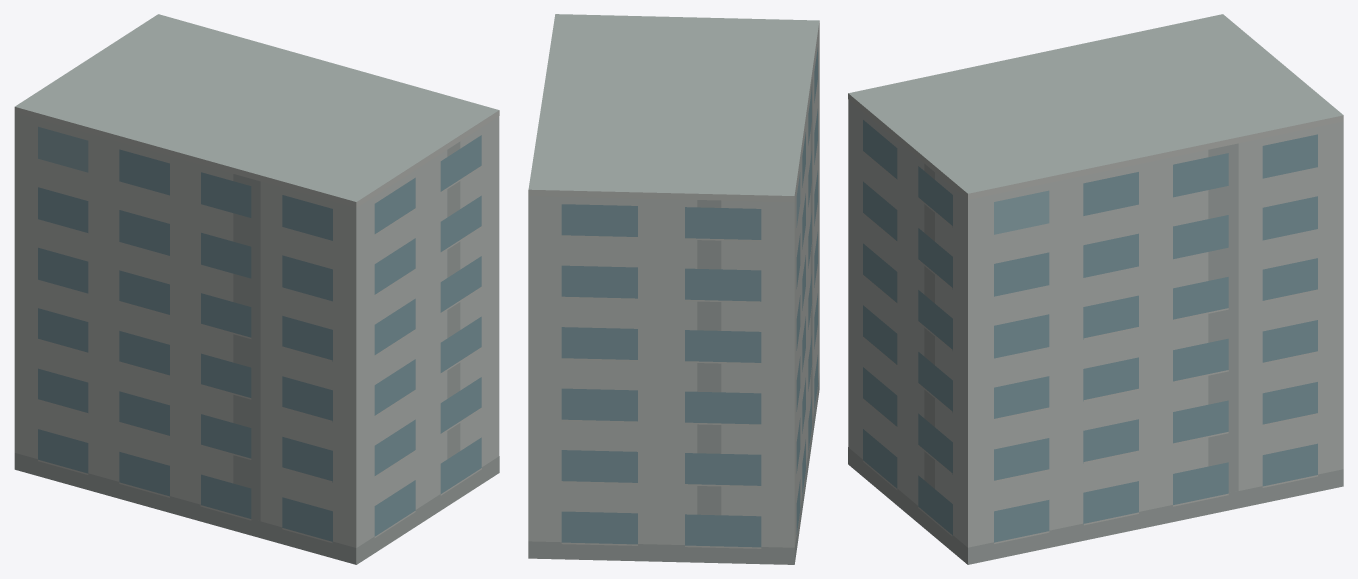
File: survey-upis-32891460.glb
3 views of the same model, side by side, from view 1: azimuth 30°, elevation 25°; view 2: azimuth 150°, elevation 25°; view 3: azimuth 270°, elevation 25° (orthographic). The views are drawn at different scales.
Visible parts, largest first — view 1: survey-upis-32891460.tmp; view 2: survey-upis-32891460.tmp; view 3: survey-upis-32891460.tmp.
Part boxes in pixels (x1,y1,x2,y2): survey-upis-32891460.tmp: (14, 14, 499, 564); survey-upis-32891460.tmp: (528, 14, 819, 564); survey-upis-32891460.tmp: (848, 14, 1343, 564).
Bounding box in the file's own units: 15.18 × 14.6 × 17.68.
